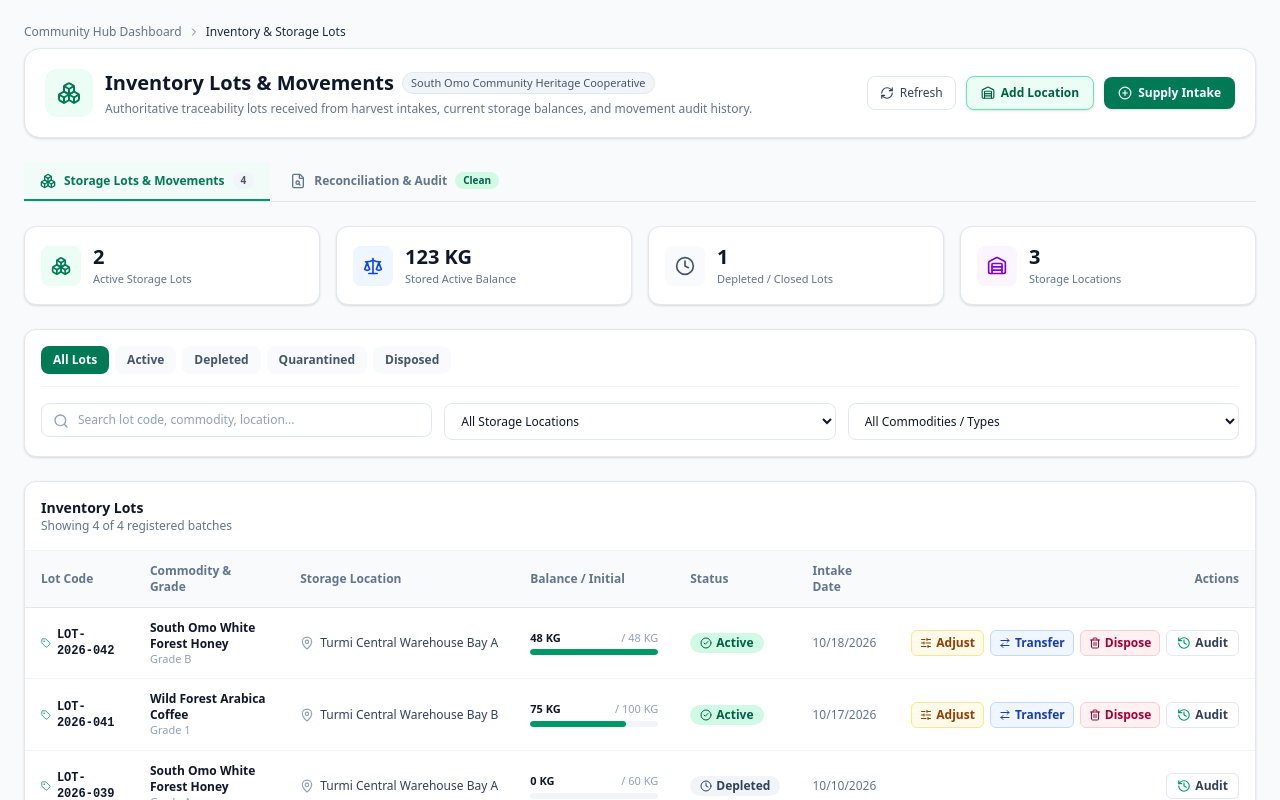
it: F-902: Inventory Adjustments, Transfers, and Disposals › displays overdraw error when adjustment decrease exceeds available balance
# lot-001 has balance 48 KG
Click the button with test id "adjust-lot-btn-lot-001" at point(948, 643), box top-left (911, 630), bottom-right (984, 656)
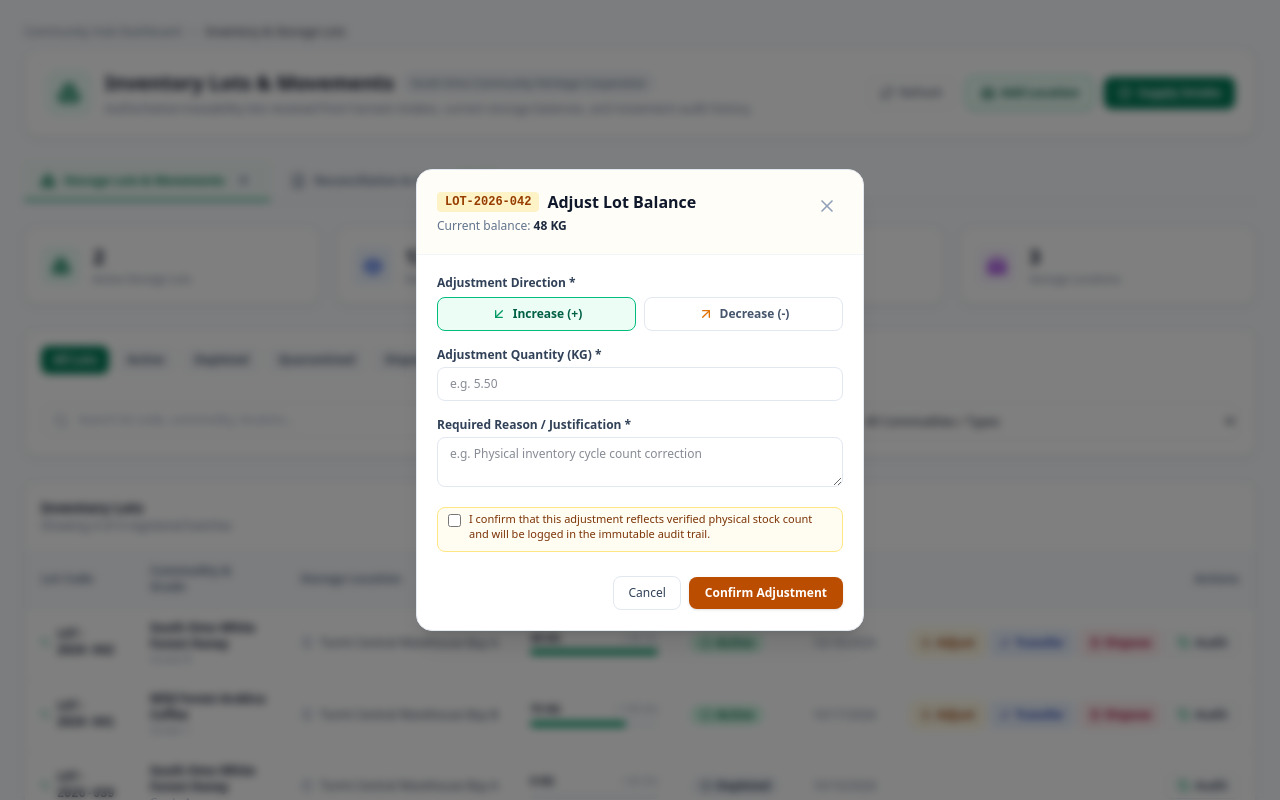
Result: the element with test id "adjust-lot-modal" is shown
# Switch to Decrease
Click the button "Decrease (-)" at point(744, 314), box top-left (644, 297), bottom-right (843, 331)
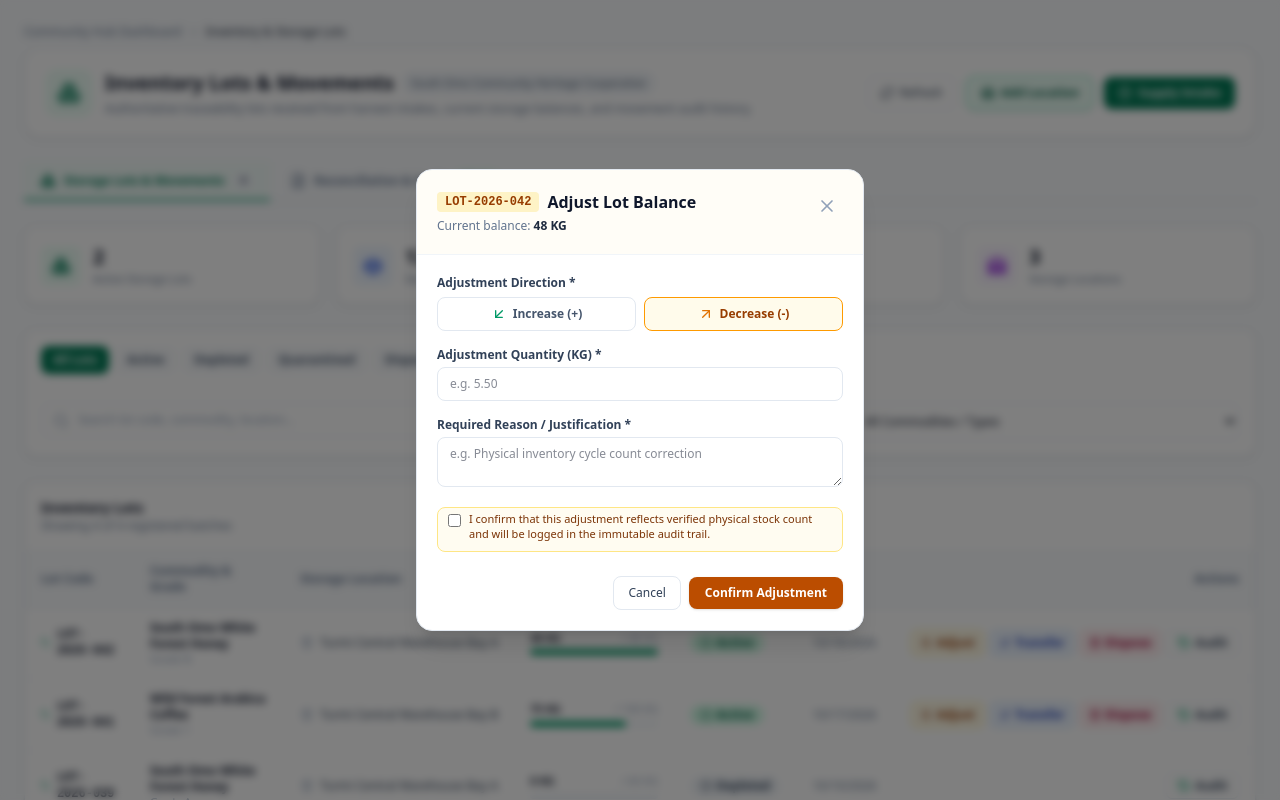
# Try to decrease 50 KG (exceeds 48 KG)
Type "50" into the number field with test id "adjust-quantity-input" at point(640, 384), box top-left (437, 367), bottom-right (843, 401)
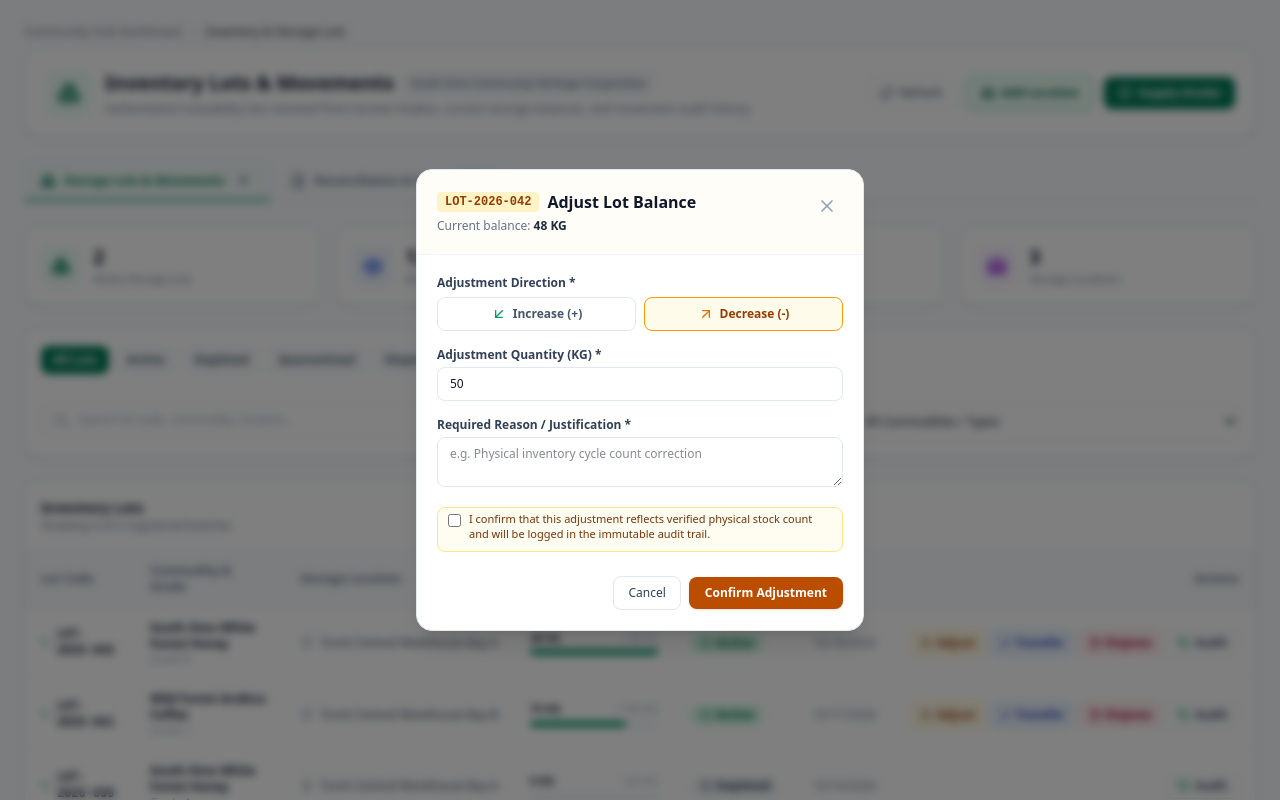
Type "Inventory loss" into the text box with test id "adjust-reason-input" at point(640, 462), box top-left (437, 437), bottom-right (843, 487)
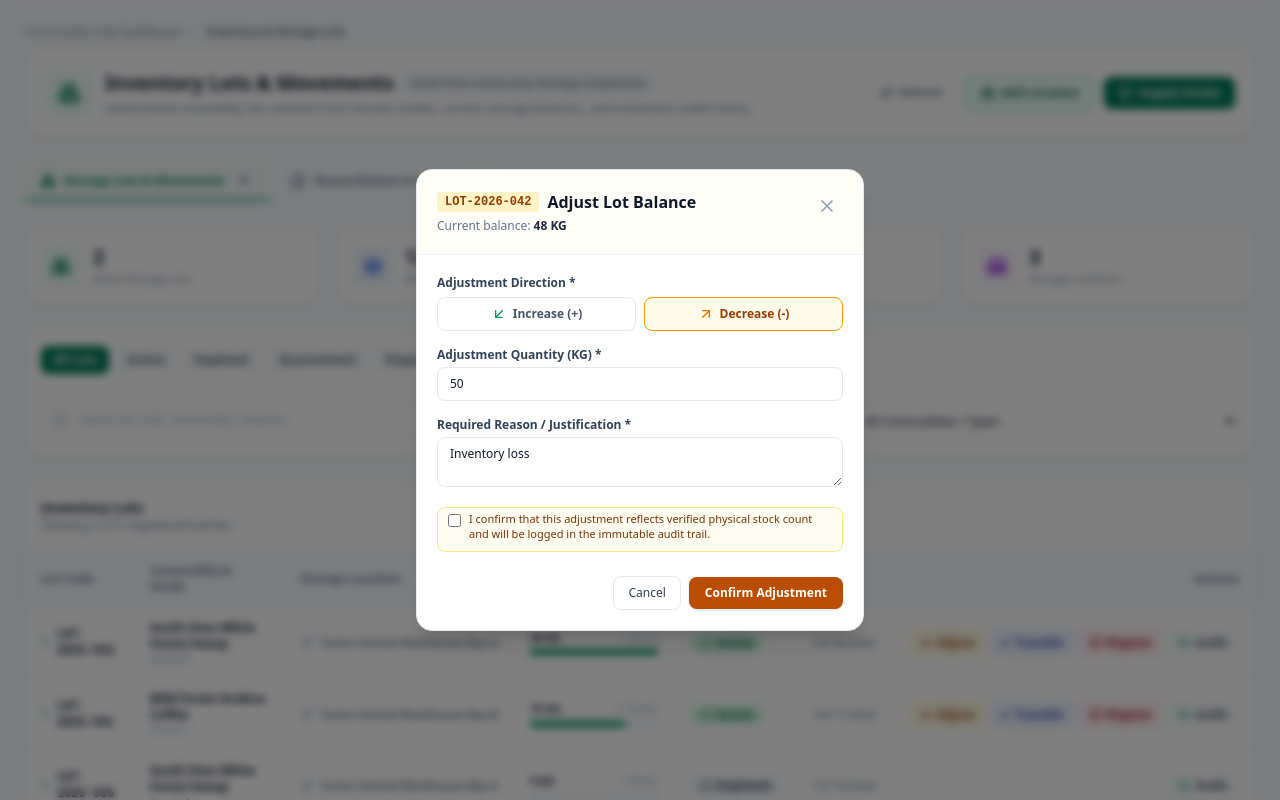
Click the checkbox with test id "confirm-adjust-checkbox" at point(454, 520), box top-left (448, 514), bottom-right (461, 527)
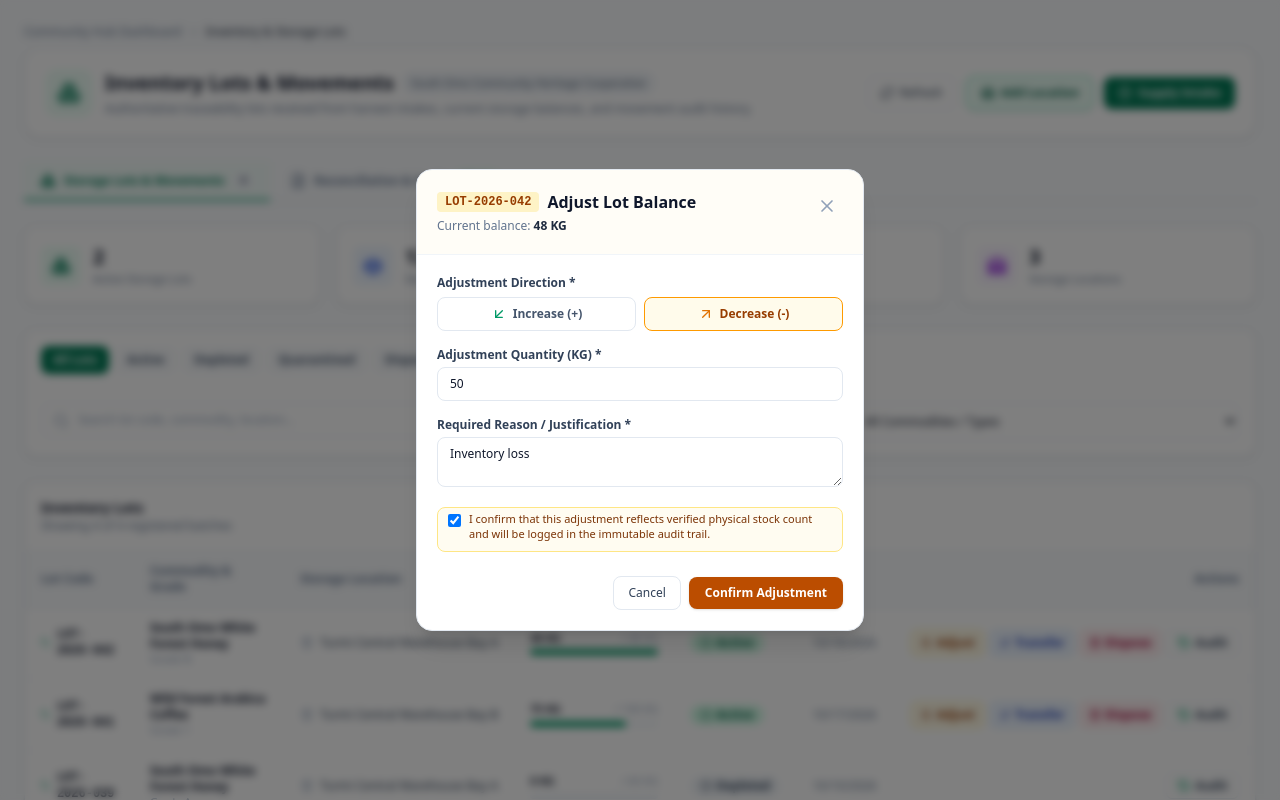
Click the button with test id "submit-adjust-btn" at point(766, 593), box top-left (689, 577), bottom-right (843, 609)
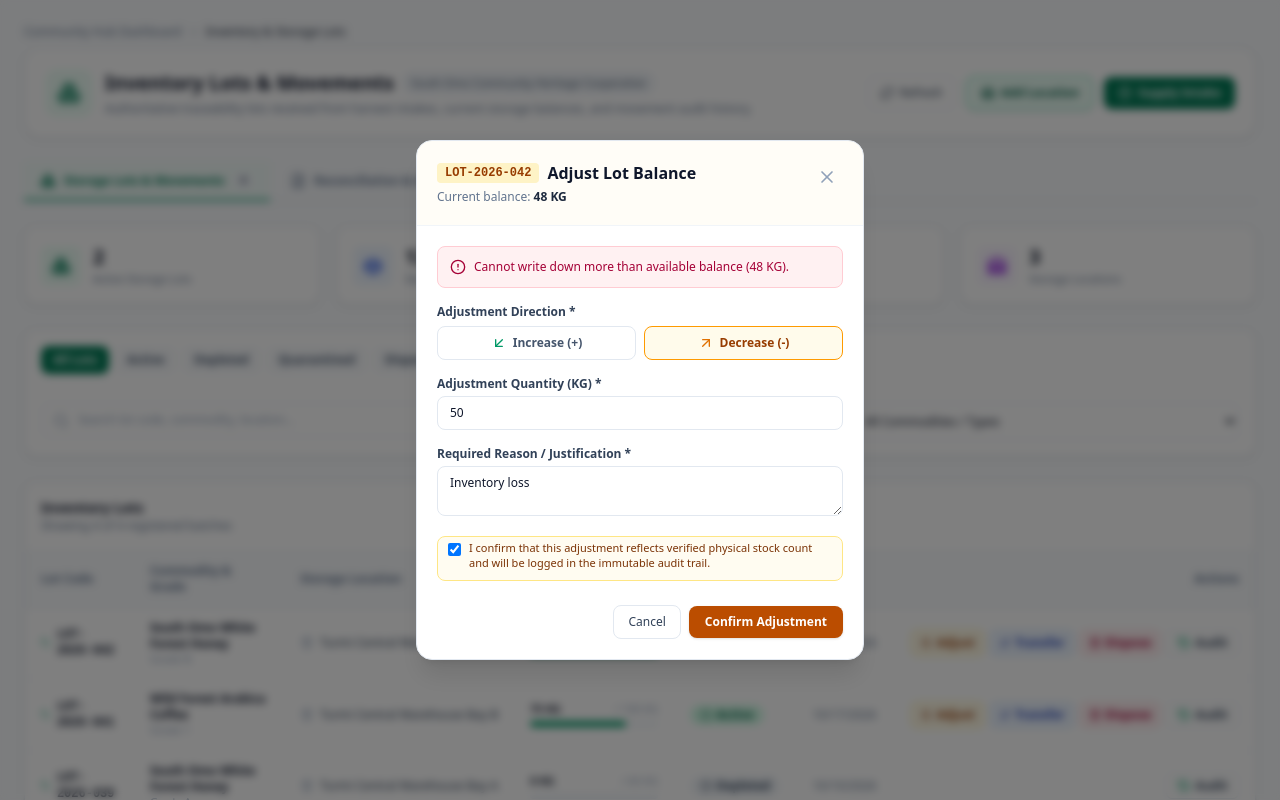
Result: the element with test id "adjust-error-alert" is shown at top-left (437, 246), bottom-right (843, 288)
Result: the element with test id "adjust-error-alert" shows "Cannot write down more than available balance (48 KG)" at top-left (474, 258), bottom-right (789, 275)
